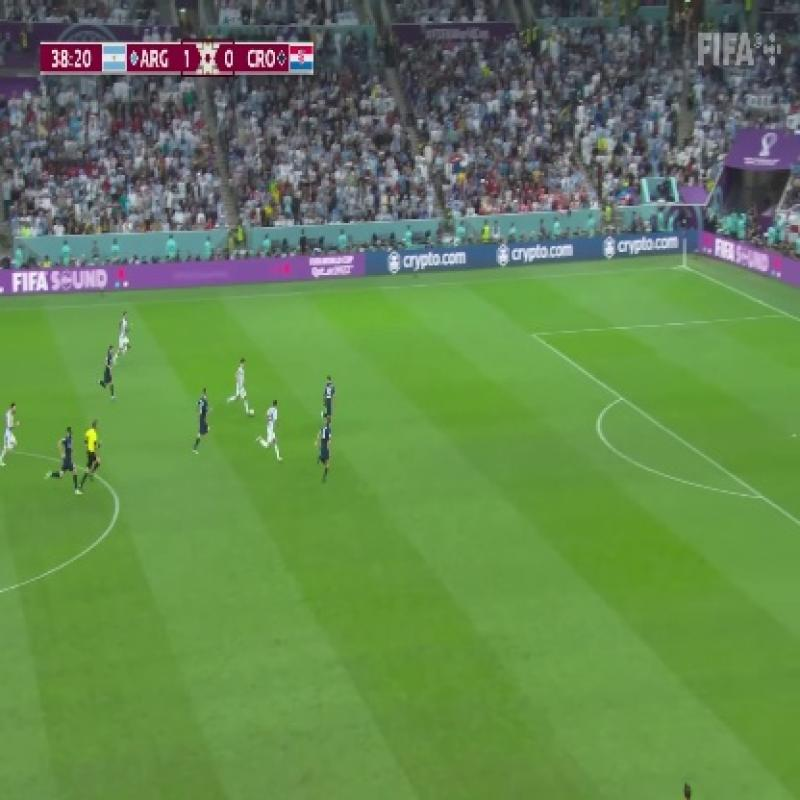1: (671, 258, 692, 276)
10: (612, 384, 630, 408)
11: (750, 482, 769, 508)
2: (776, 304, 794, 323)
9: (523, 321, 542, 346)
c: (102, 484, 135, 522)
